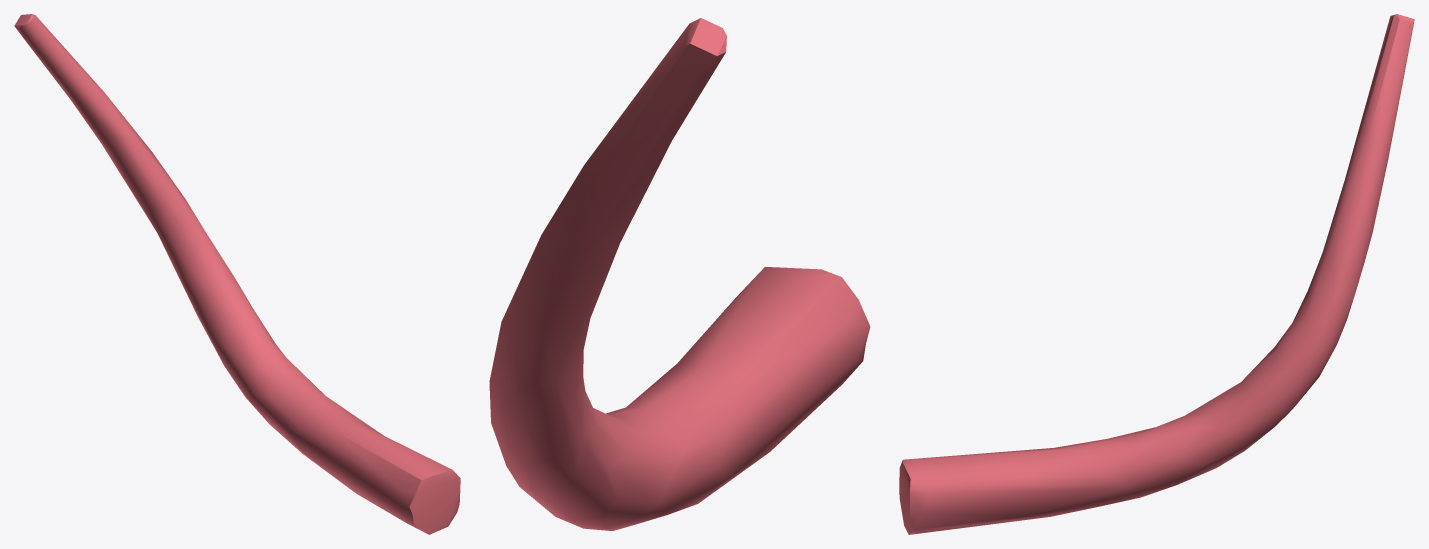
The model's file is fma68709_fj2997.glb.
3 views of the same model, side by side, from view 1: azimuth 30°, elevation 25°; view 2: azimuth 150°, elevation 25°; view 3: azimuth 270°, elevation 25° (orthographic). The views are drawn at different scales.
Parts seen in each view (by area): view 1: FMA68709_FJ2997; view 2: FMA68709_FJ2997; view 3: FMA68709_FJ2997.
Boxes of the visible parts, <box> form: FMA68709_FJ2997: <box>14,14,460,534</box>; FMA68709_FJ2997: <box>489,18,870,530</box>; FMA68709_FJ2997: <box>899,14,1414,534</box>.
Bounding box in the file's own units: 0.0212 × 0.0368 × 0.0405.
